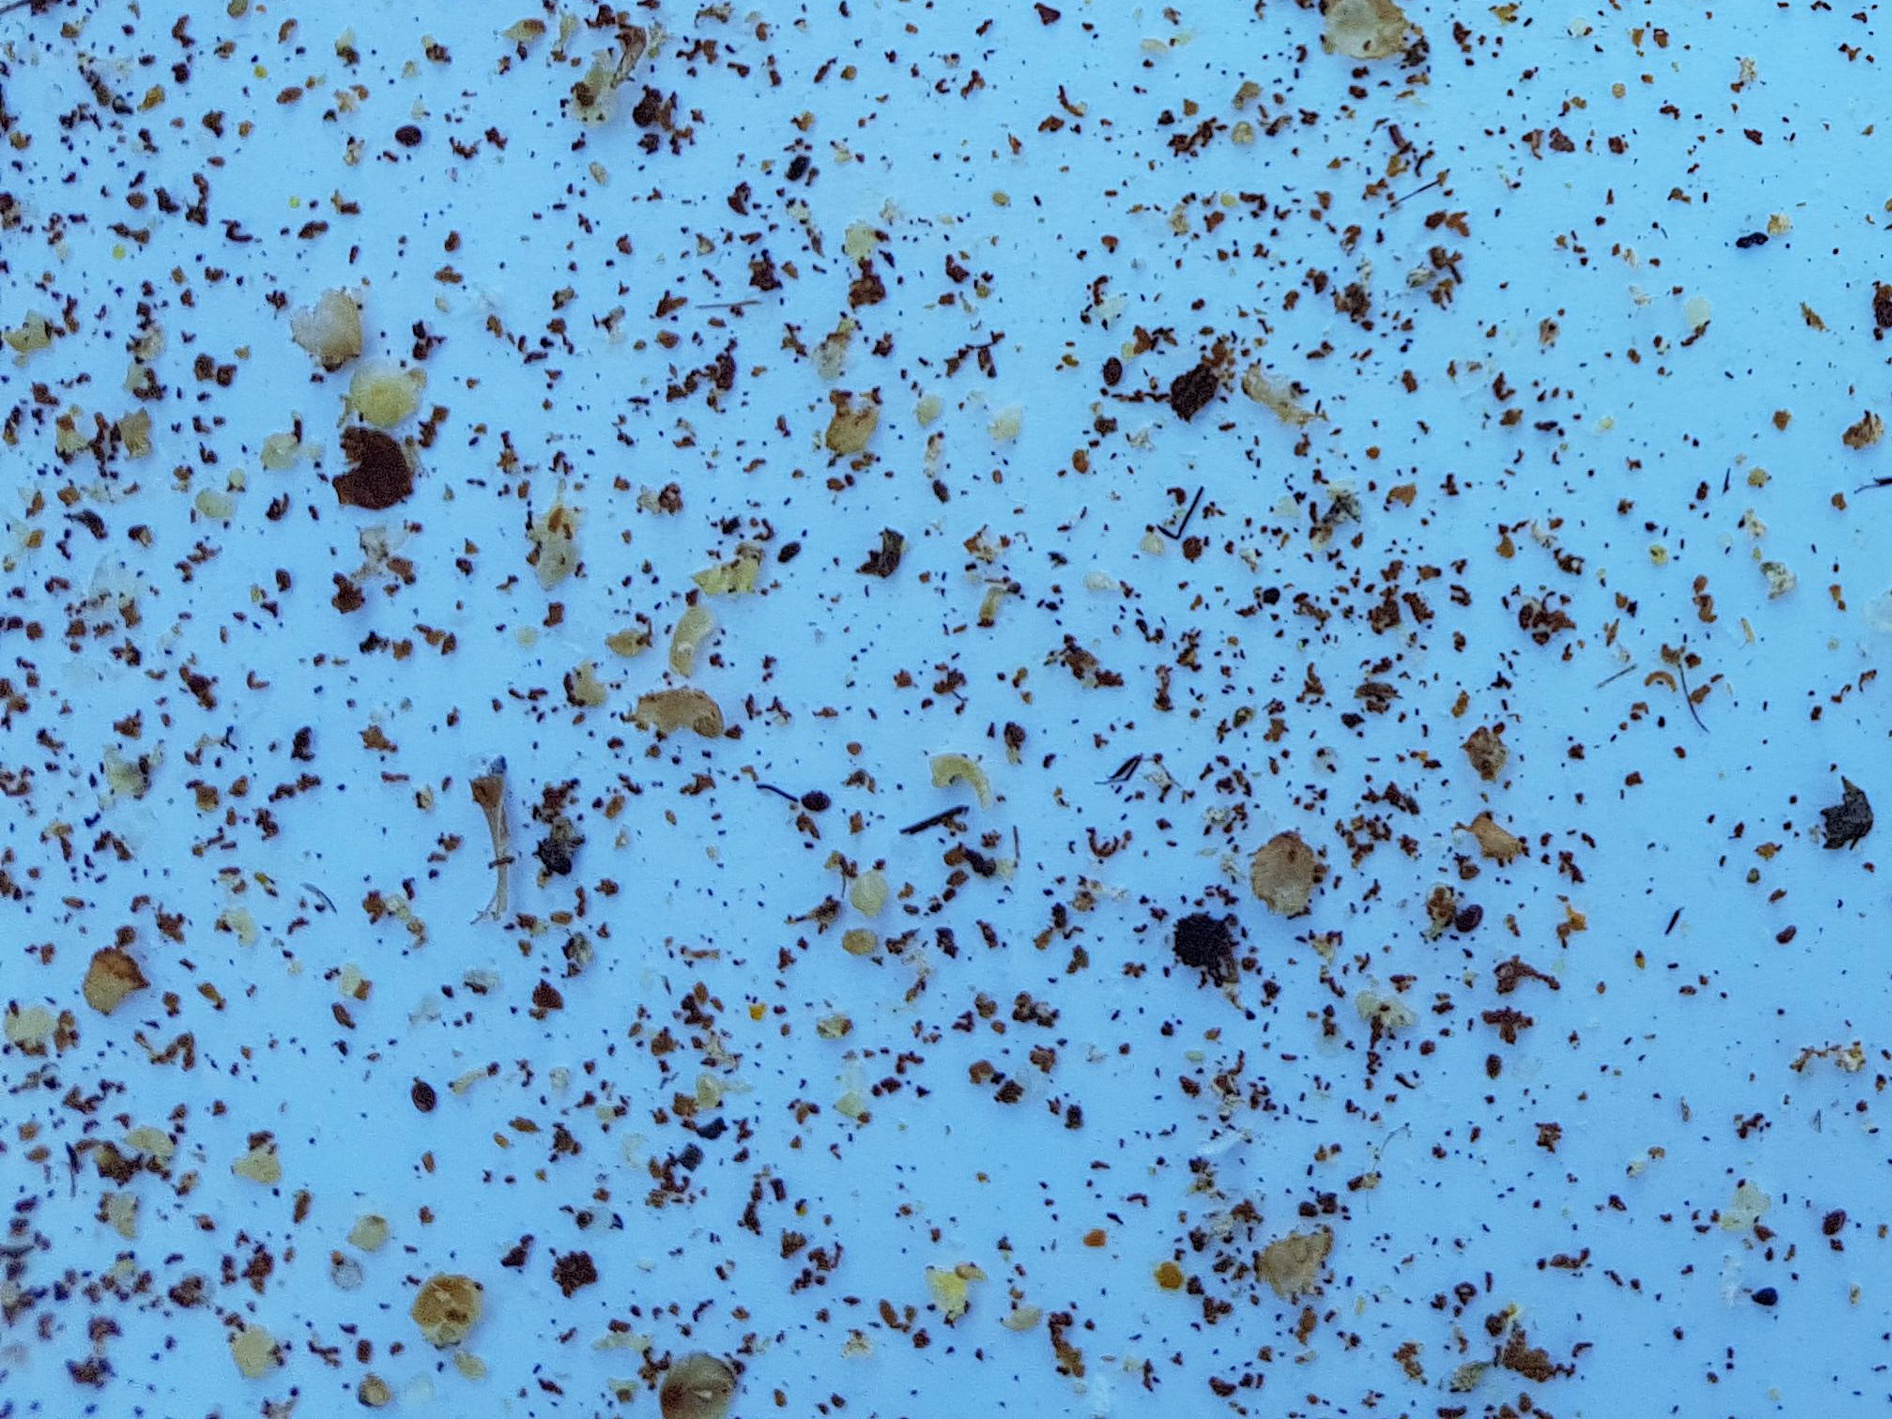Varroa: (1815, 1207, 1844, 1239), (408, 1084, 439, 1113), (1453, 905, 1479, 935), (801, 780, 828, 808), (393, 121, 420, 148), (1093, 358, 1119, 385)
